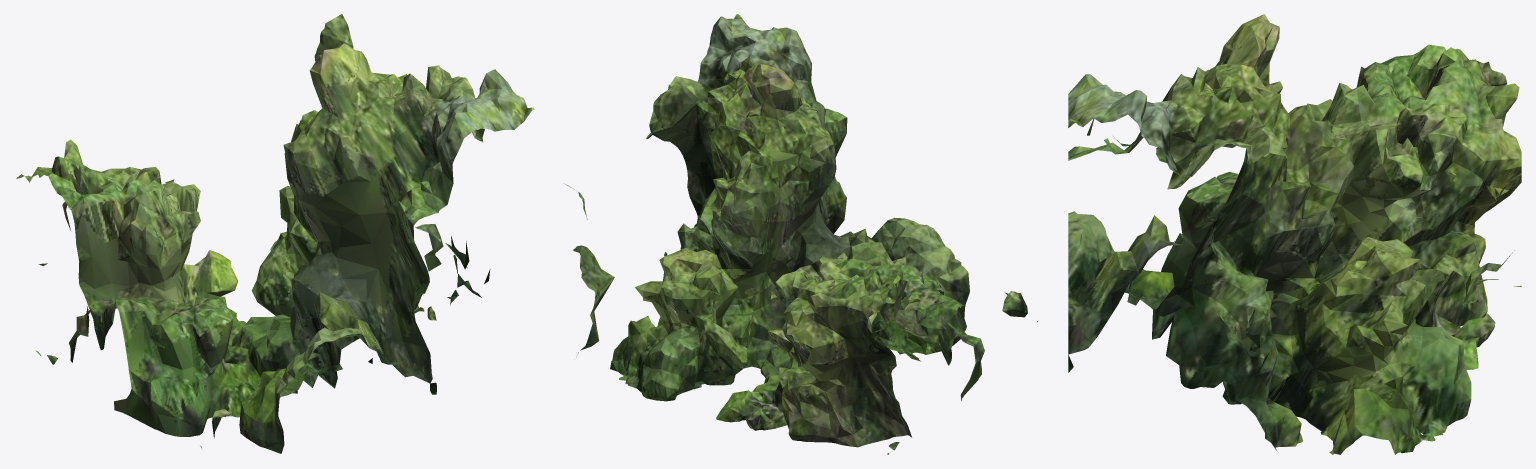
3 views of the same model, side by side, from view 1: azimuth 30°, elevation 25°; view 2: azimuth 150°, elevation 25°; view 3: azimuth 270°, elevation 25° (orthographic). The views are drawn at different scales.
Bounding box in the file's own units: 26.11 × 23.57 × 26.11.
Materials: 7 (7 with a texture image).
